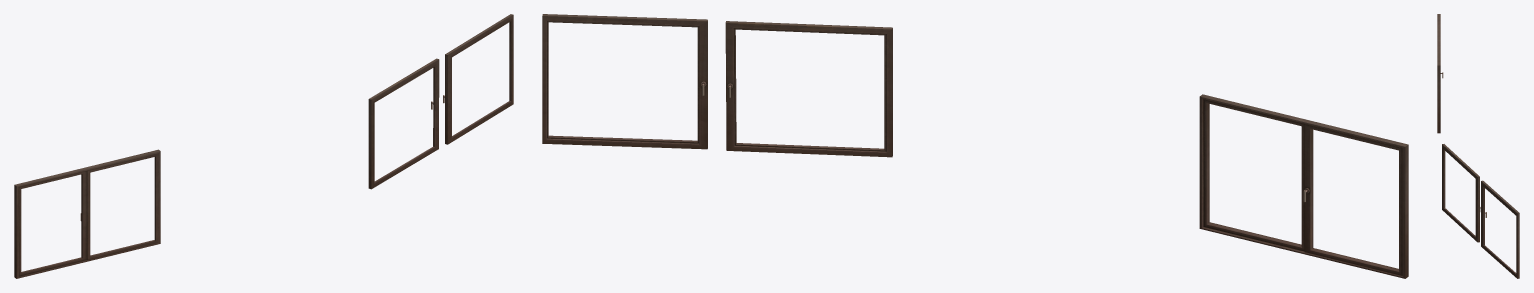
Rendered from SM_DoorWindows.fbx.
3 renders of one model, left to right at view 1: azimuth 30°, elevation 25°; view 2: azimuth 150°, elevation 25°; view 3: azimuth 270°, elevation 25°, orthographic. The views are drawn at different scales.
Parts seen in each view (by area): view 1: SM_DoorWindows_LOD0; view 2: SM_DoorWindows_LOD0; view 3: SM_DoorWindows_LOD0.
Part boxes in pixels (x1,y1,x2,y2): SM_DoorWindows_LOD0: [14, 14, 513, 278]; SM_DoorWindows_LOD0: [542, 14, 1408, 278]; SM_DoorWindows_LOD0: [1437, 14, 1519, 278].
Size of the model in its own units: 1565 by 276 by 251.
1 material, 1 textured.
